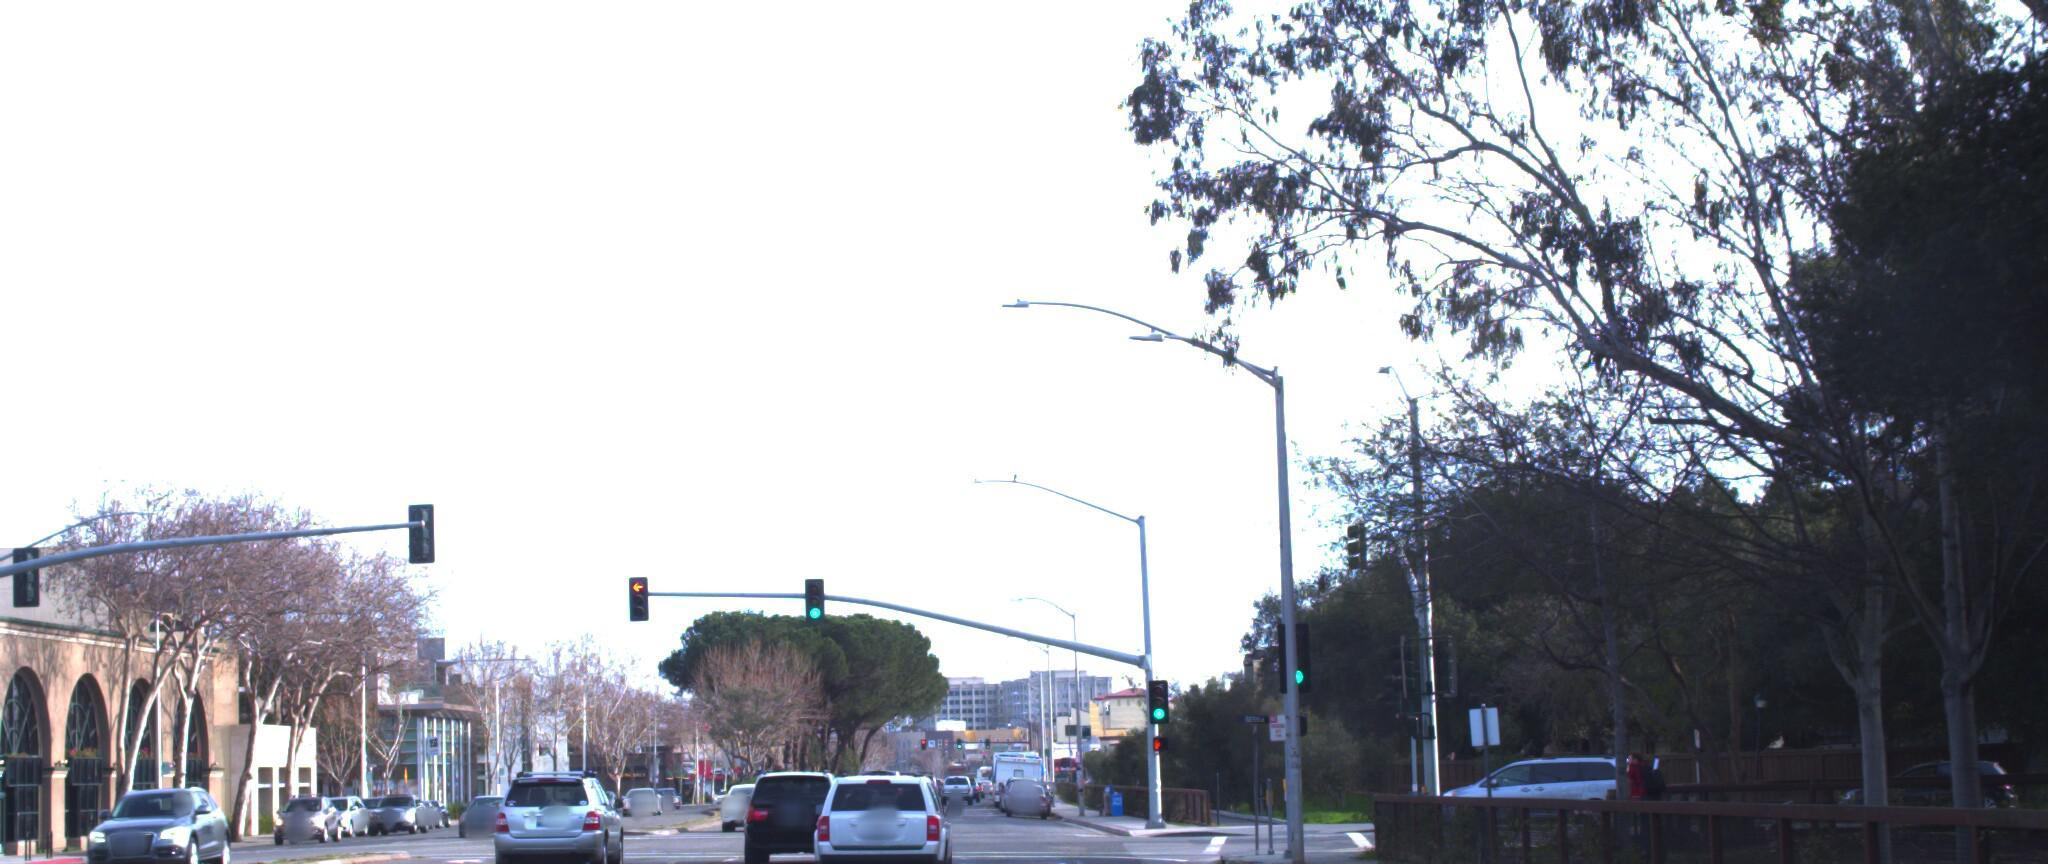bicycle: (1599, 739, 1686, 860)
car: (1409, 749, 1634, 831), (790, 753, 950, 864), (472, 761, 624, 864), (64, 782, 229, 864), (734, 769, 846, 864)
